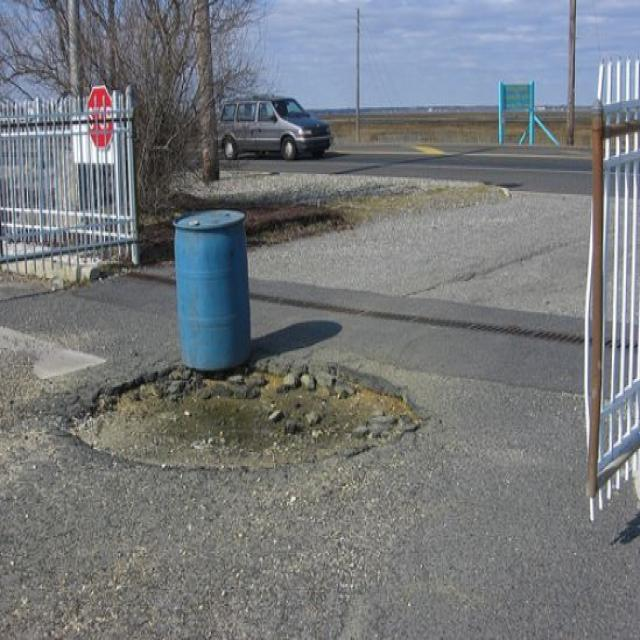Pothole: (58, 366, 427, 463)
